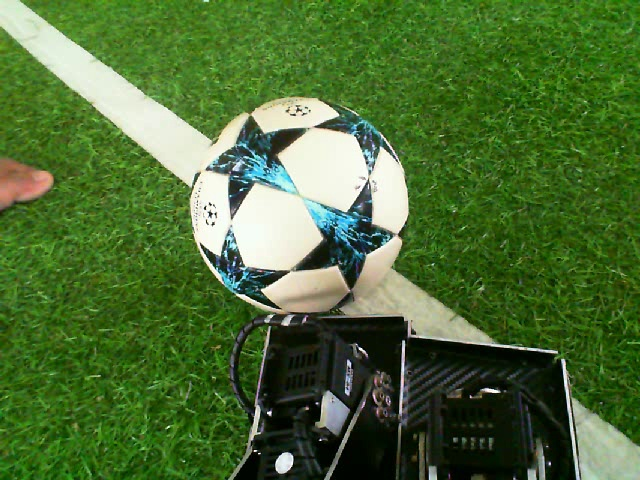ball: (187, 94, 411, 318)
